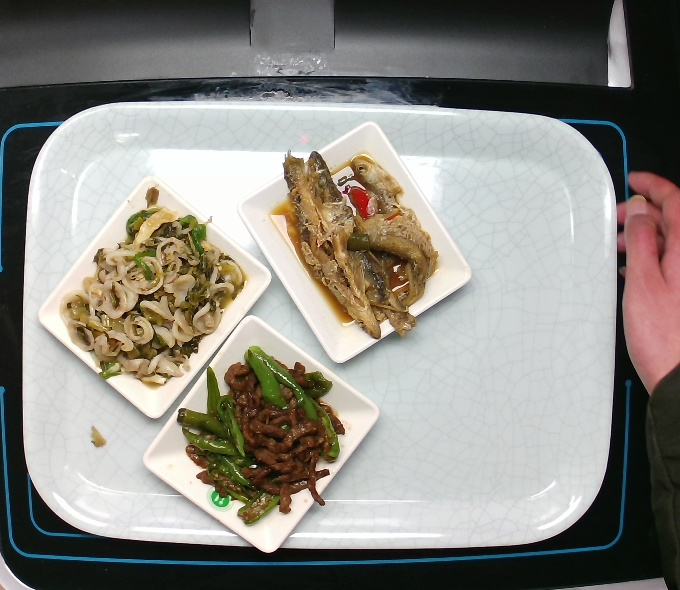wcq-QingJiaoNiuRou: (176, 346, 354, 525)
wcq-XiaoXiYu: (266, 147, 439, 344)
wcq-XueCaiYouYu: (54, 185, 249, 395)
